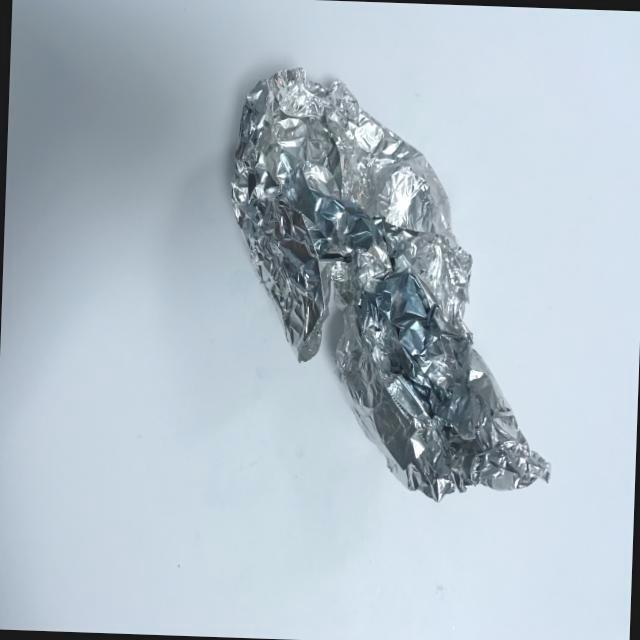metal: (198, 31, 578, 519)
